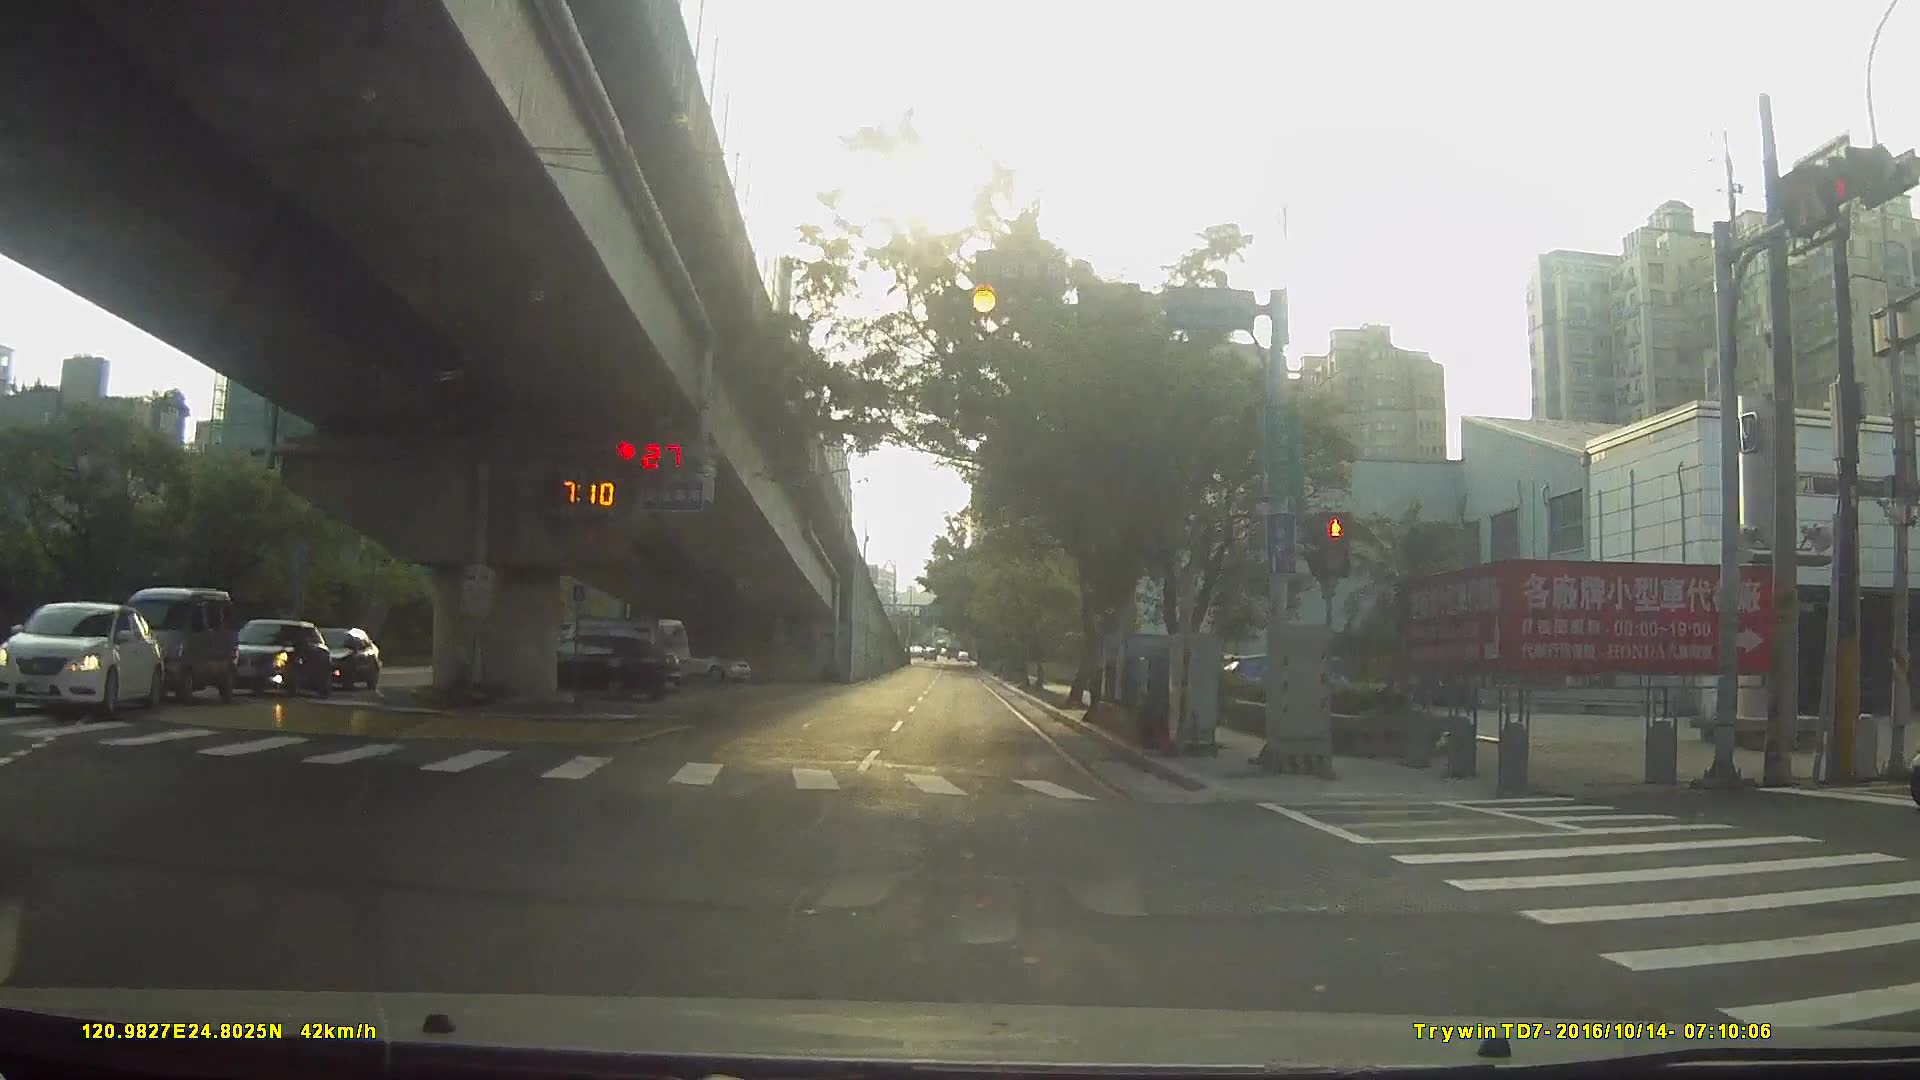vehicle: (9, 599, 169, 717), (113, 583, 228, 700), (517, 630, 679, 700), (212, 615, 328, 698), (285, 625, 376, 688), (655, 640, 752, 684)
